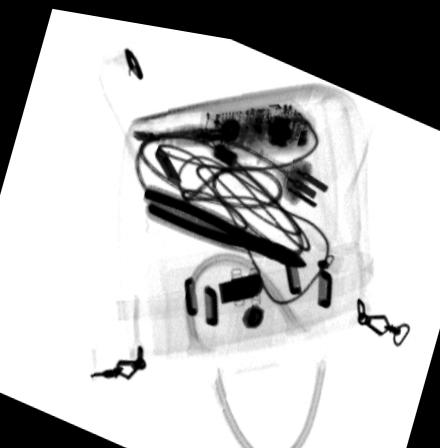Pliers: (142, 179, 309, 259)
